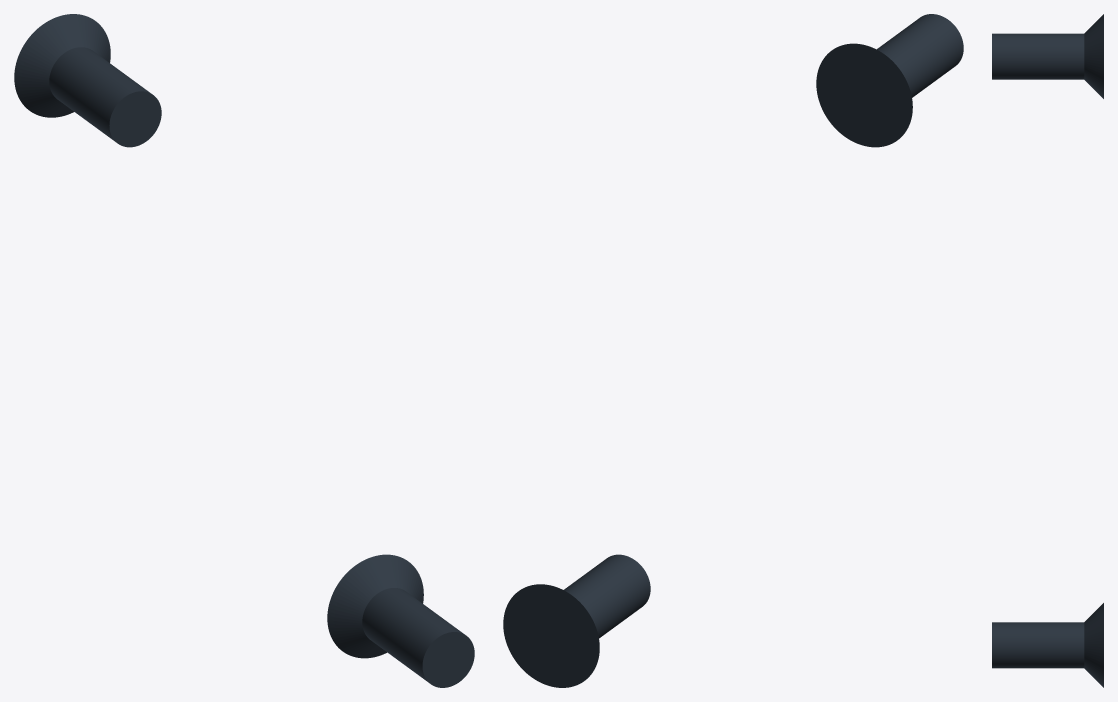
File: Battery_Fasteners.obj
3 renders of one model, left to right at view 1: azimuth 30°, elevation 25°; view 2: azimuth 150°, elevation 25°; view 3: azimuth 270°, elevation 25°, orthographic. The views are drawn at different scales.
Parts seen in each view (by area): view 1: Battery_Fasteners; view 2: Battery_Fasteners; view 3: Battery_Fasteners.
Boxes of the visible parts, <box> form: Battery_Fasteners: <box>14,14,474,687</box>; Battery_Fasteners: <box>503,14,963,687</box>; Battery_Fasteners: <box>992,14,1103,687</box>.
Bounding box in the file's own units: 15.7 × 26.3 × 4.85.
